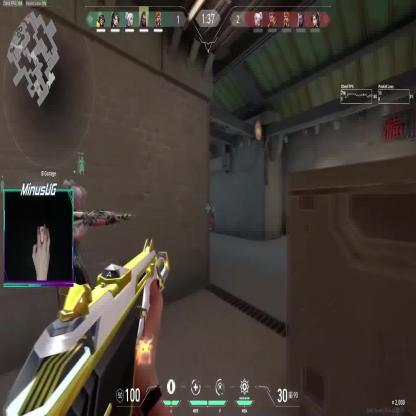enemy: (208, 200, 216, 231)
enemy_head: (210, 202, 214, 209)
